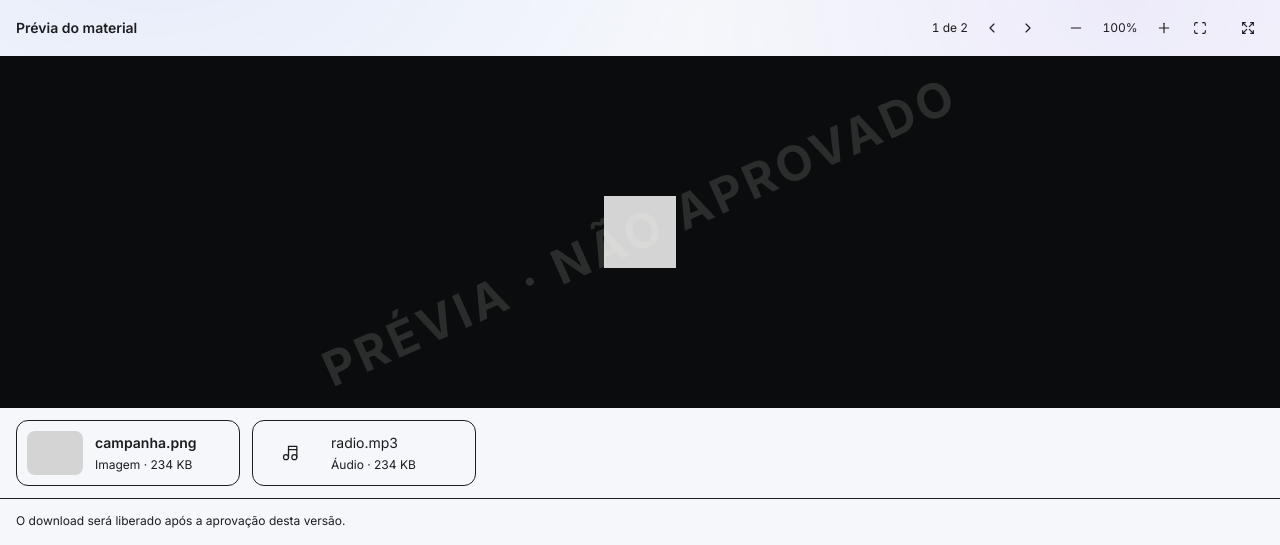
prévia do material › com vários materiais, troca entre eles por abas
Click the tab "radio.mp3 Áudio · 234 KB" at (364, 453), box [252,420,476,486]
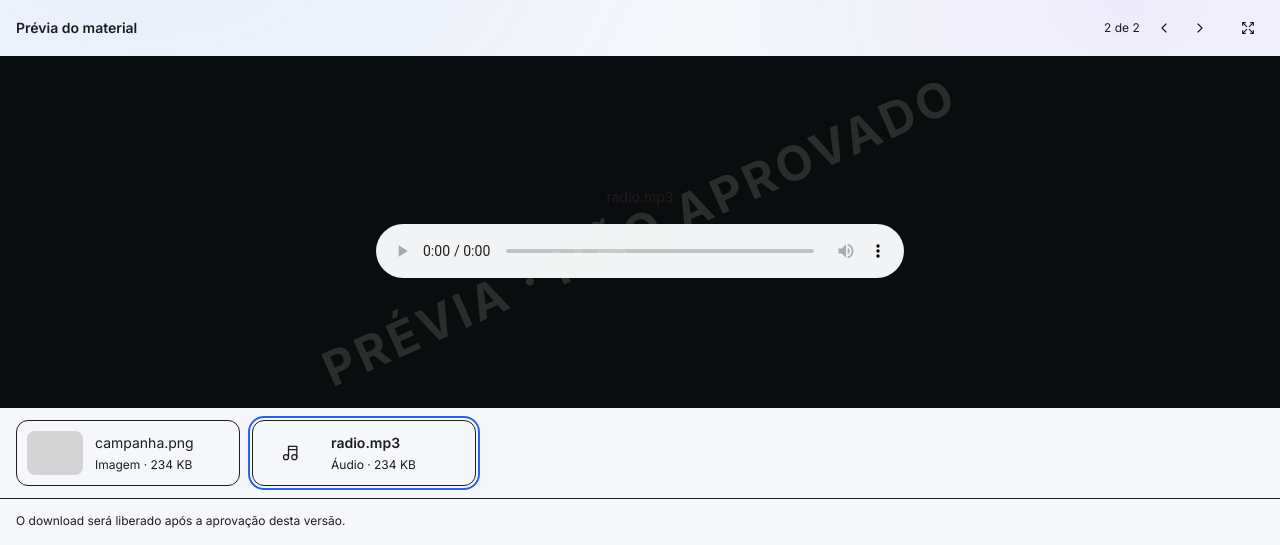
expect the text "Seu navegador não reproduz este áudio." is shown: met, box [376,224,904,278]
